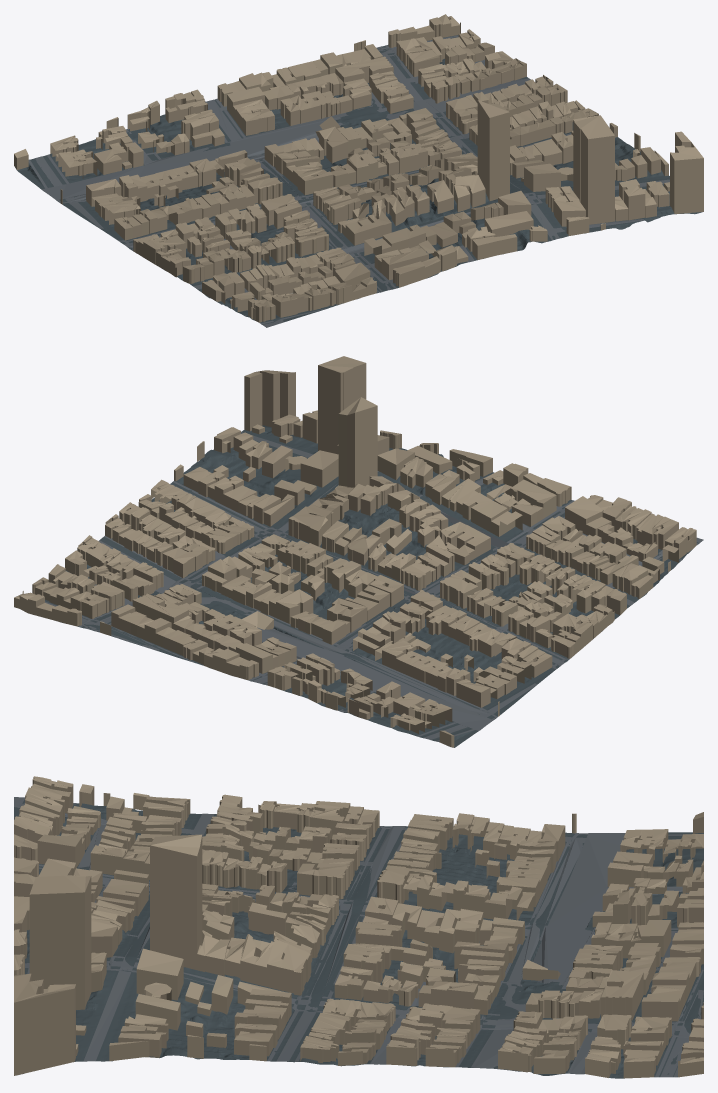
File: epsg26910-1435-10894.lod0.glb
3 views of the same model, one above another, from view 1: azimuth 30°, elevation 25°; view 2: azimuth 150°, elevation 25°; view 3: azimuth 270°, elevation 25° (orthographic). The views are drawn at different scales.
Parts seen in each view (by area): view 1: epsg26910-1435-10894-lod0; view 2: epsg26910-1435-10894-lod0; view 3: epsg26910-1435-10894-lod0.
Part boxes in pixels (left/top/right/bottom): epsg26910-1435-10894-lod0: left=14, top=14, right=703, bottom=327; epsg26910-1435-10894-lod0: left=14, top=356, right=703, bottom=747; epsg26910-1435-10894-lod0: left=14, top=776, right=703, bottom=1078.
Size of the model in its own units: 384 by 114 by 384.
